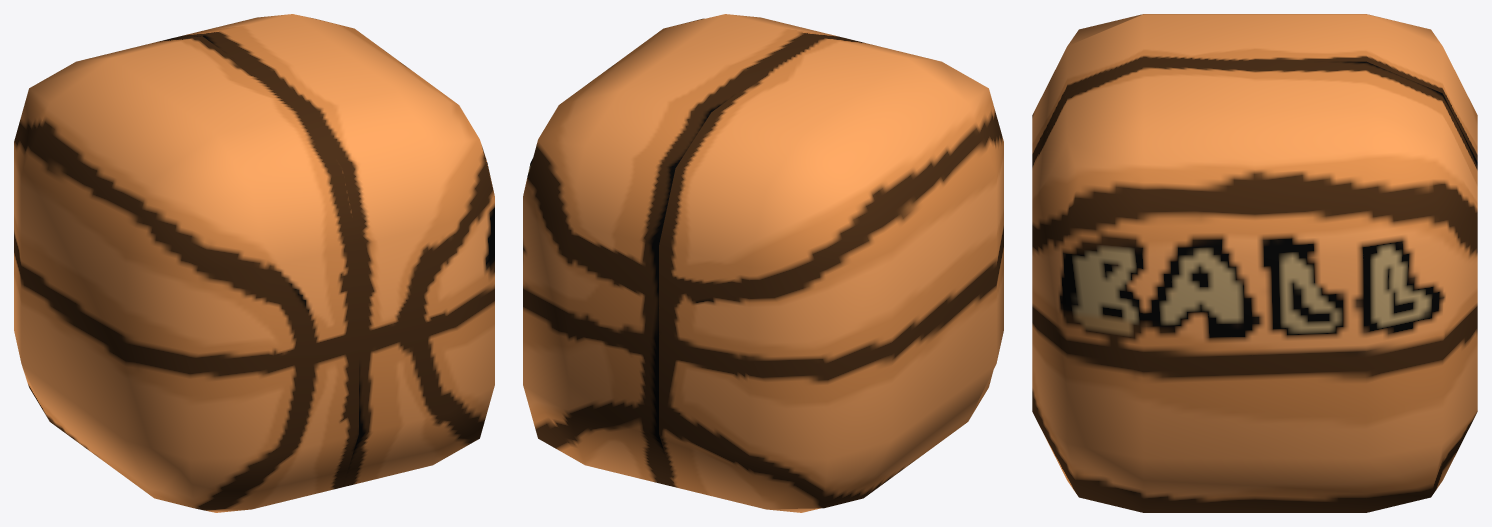
The model's file is ball.fbx.
The picture shows the model from 3 angles, left to right: view 1: azimuth 30°, elevation 25°; view 2: azimuth 150°, elevation 25°; view 3: azimuth 270°, elevation 25°; orthographic projection. The views are drawn at different scales.
Parts seen in each view (by area): view 1: Cube; view 2: Cube; view 3: Cube.
Boxes of the visible parts, x1,y1,x2,y2 form: Cube: [14, 14, 494, 512]; Cube: [523, 14, 1003, 512]; Cube: [1032, 14, 1477, 512].
Size of the model in its own units: 100 by 100 by 100.
1 material, 1 textured.
